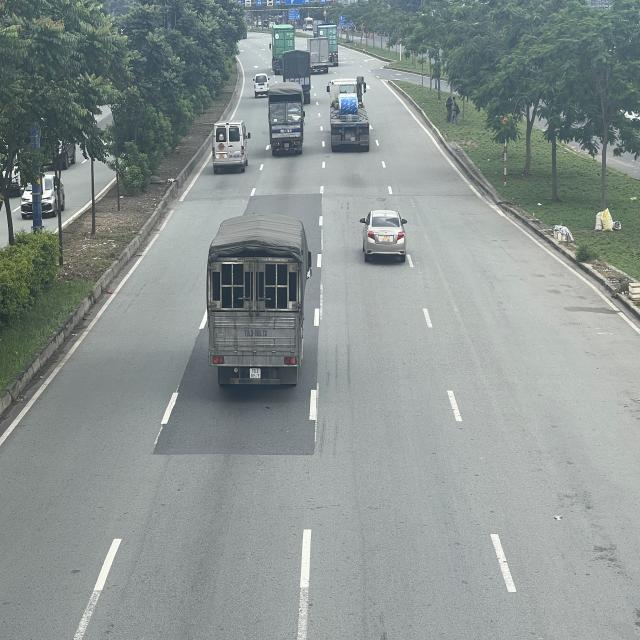car: (359, 208, 406, 261)
container: (326, 76, 370, 152), (267, 22, 295, 66), (316, 23, 340, 61)
truck: (206, 211, 310, 384), (267, 83, 306, 154), (283, 48, 312, 94), (308, 35, 331, 70)
van: (212, 118, 250, 170), (253, 72, 269, 97)
